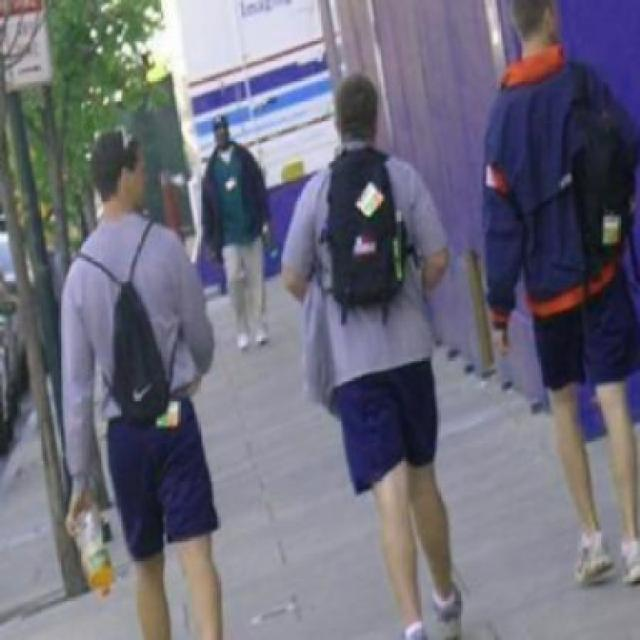Person: (285, 74, 469, 638), (480, 0, 638, 588), (52, 126, 228, 639), (192, 109, 274, 354)
